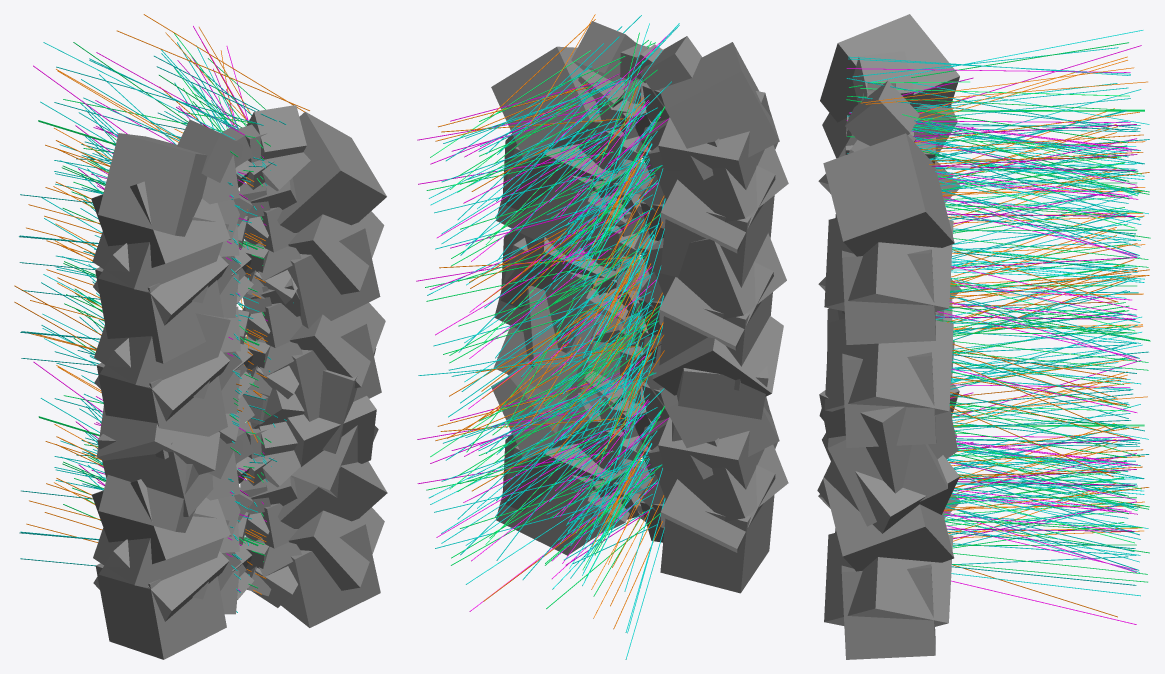
File: hugewalls2.dae
3 renders of one model, left to right at view 1: azimuth 30°, elevation 25°; view 2: azimuth 150°, elevation 25°; view 3: azimuth 270°, elevation 25°, orthographic. The views are drawn at different scales.
Parts seen in each view (by area): view 1: Cube.1019, Cube.061, Cube.542, Cube.1015, Cube.521, Cube.760, Cube.1018, Cube.545, Cube.055, Cube.548, Cube.762, Cube.524 (+42 smaller); view 2: Cube.1019, Cube.061, Cube.542, Cube.762, Cube.521, Cube.548, Cube.544, Cube.1017, Cube.055, Cube.546, Cube.1018, Cube.056 (+32 smaller); view 3: Cube.061, Cube.740, Cube.056, Cube.522, Cube.1019, Cube.524, Cube.521, Cube.055, Cube.527, Cube.739, Cube.526, Cube.525 (+3 smaller).
Boxes of the visible parts, x1,y1,x2,y2 form: Cube.1019: (98, 133, 207, 236); Cube.061: (277, 112, 386, 232); Cube.542: (95, 563, 226, 659); Cube.1015: (95, 267, 223, 363); Cube.521: (281, 518, 380, 627); Cube.760: (96, 362, 227, 459); Cube.1018: (91, 181, 230, 267); Cube.545: (92, 479, 230, 564); Cube.055: (288, 222, 380, 328); Cube.548: (96, 406, 220, 474); Cube.762: (94, 313, 230, 398); Cube.524: (277, 461, 387, 528); Cube.1019: (659, 42, 779, 179); Cube.061: (491, 46, 601, 162); Cube.542: (660, 495, 774, 593); Cube.762: (646, 233, 786, 318); Cube.521: (496, 446, 606, 555); Cube.548: (652, 316, 783, 396); Cube.544: (647, 438, 788, 521); Cube.1017: (648, 138, 788, 222); Cube.055: (496, 146, 593, 255); Cube.546: (659, 387, 779, 479); Cube.1018: (658, 91, 777, 189); Cube.056: (502, 134, 618, 212); Cube.061: (823, 133, 954, 256); Cube.740: (824, 318, 953, 414); Cube.056: (824, 217, 953, 311); Cube.522: (824, 532, 953, 626); Cube.1019: (820, 14, 959, 122); Cube.524: (823, 477, 954, 571); Cube.521: (841, 564, 935, 659); Cube.055: (842, 249, 935, 344); Cube.527: (819, 390, 957, 493); Cube.739: (842, 352, 936, 447); Cube.526: (827, 435, 947, 526); Cube.525: (817, 455, 959, 533).
Size of the model in its own units: 359 by 348 by 633.
